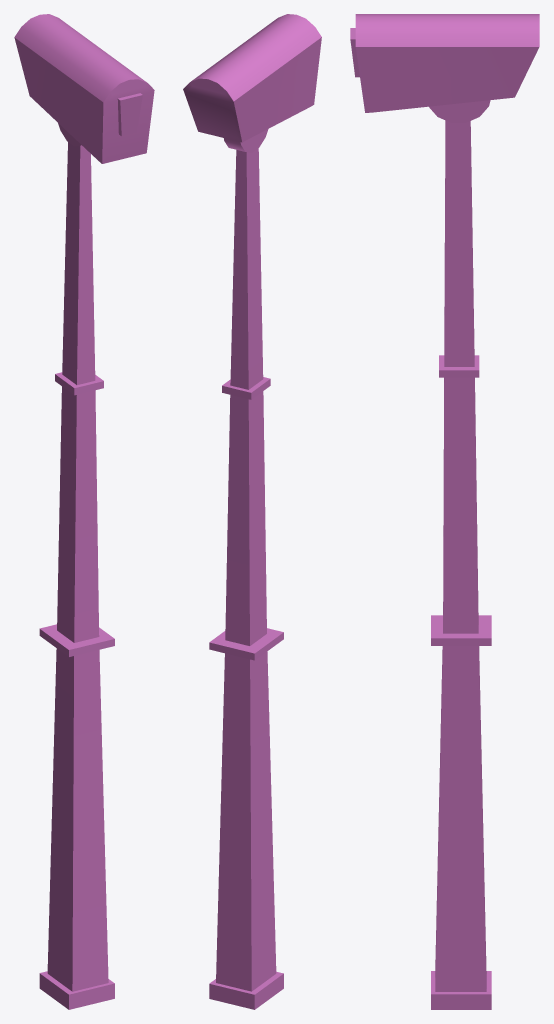
The model's file is WindTurbine_Body.fbx.
3 renders of one model, left to right at view 1: azimuth 30°, elevation 25°; view 2: azimuth 150°, elevation 25°; view 3: azimuth 270°, elevation 25°, orthographic. The views are drawn at different scales.
Visible parts, largest first — view 1: WindTurbine_Body; view 2: WindTurbine_Body; view 3: WindTurbine_Body.
Part boxes in pixels (x1=…): WindTurbine_Body: x1=14, y1=14, x2=154, y2=1009; WindTurbine_Body: x1=183, y1=14, x2=321, y2=1009; WindTurbine_Body: x1=350, y1=14, x2=539, y2=1009.
Size of the model in its own units: 180 by 3204 by 560.
